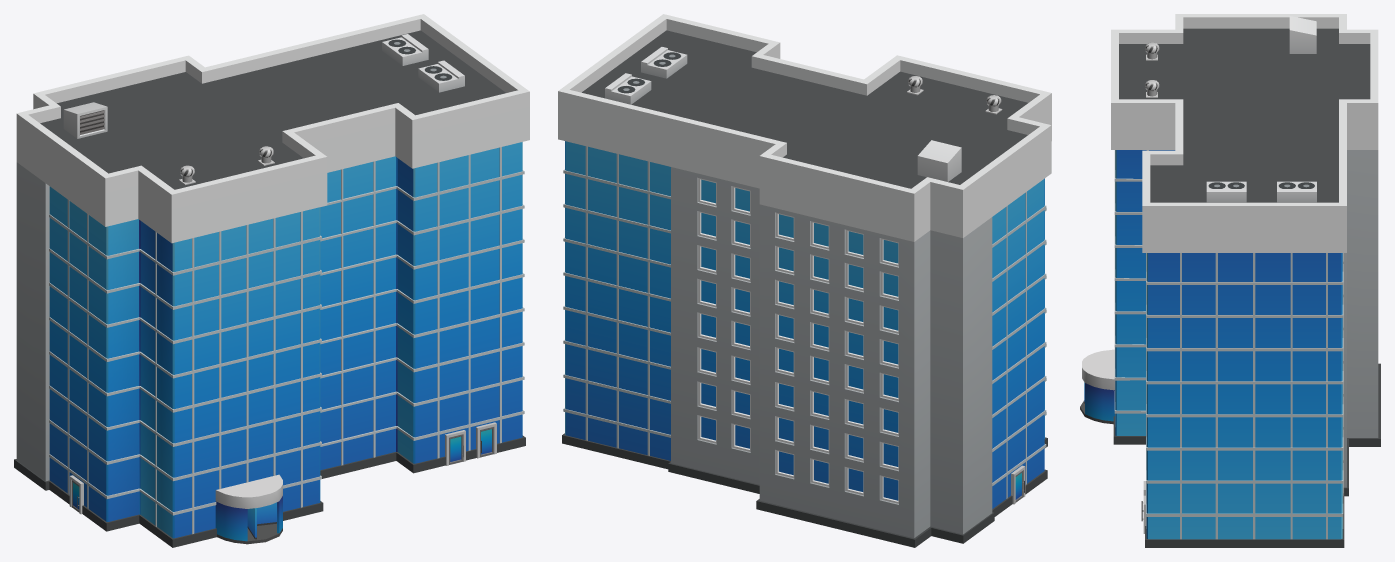
File: business_center_001.glb
3 renders of one model, left to right at view 1: azimuth 30°, elevation 25°; view 2: azimuth 150°, elevation 25°; view 3: azimuth 270°, elevation 25°, orthographic. The views are drawn at different scales.
Parts seen in each view (by area): view 1: business_center_001; view 2: business_center_001; view 3: business_center_001.
Part boxes in pixels (left/top/right/bottom): business_center_001: left=14, top=14, right=529, bottom=547; business_center_001: left=558, top=14, right=1051, bottom=547; business_center_001: left=1080, top=14, right=1380, bottom=547.
Size of the model in its own units: 33.86 by 29.16 by 22.33.
Materials: 2 (2 with a texture image).
